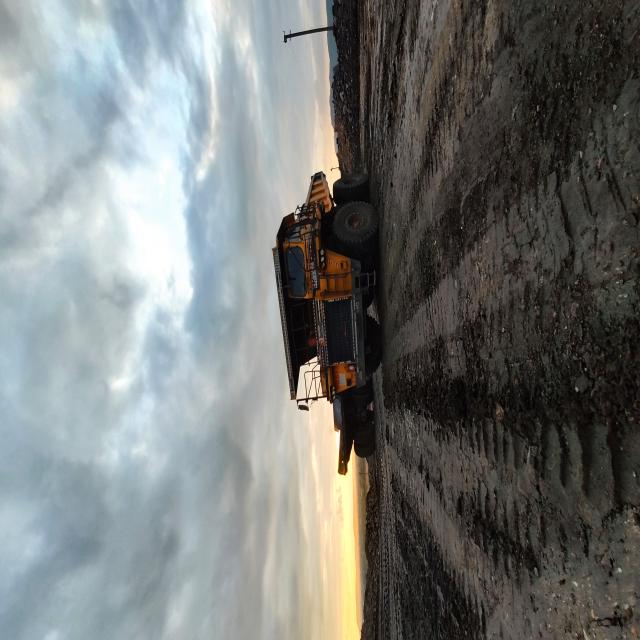dump_truck: (134, 484, 264, 640), (92, 591, 142, 640)
